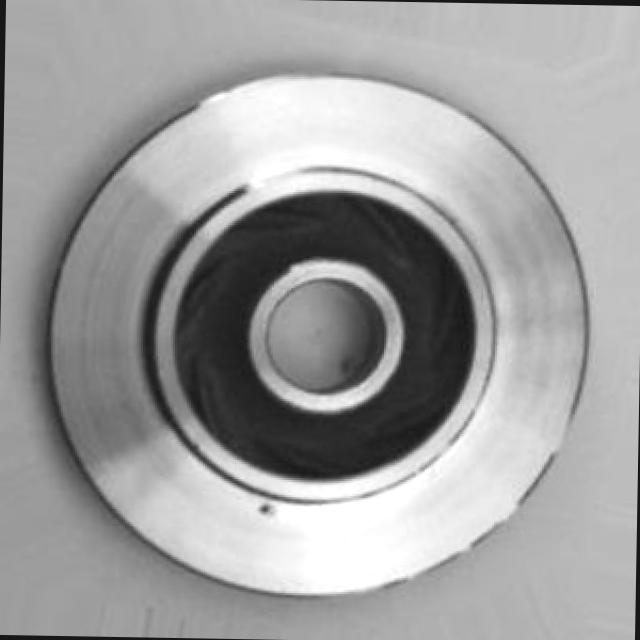Defect: (245, 485, 286, 532)
